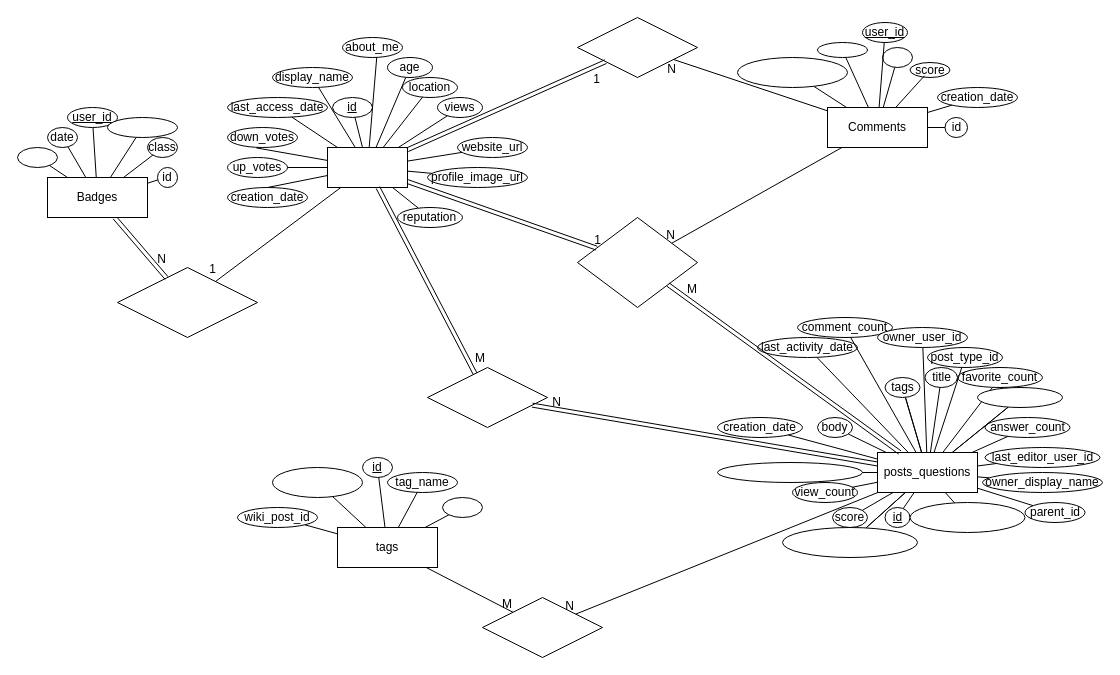
Image size: 1120x675. Some labels were removed from this diagram. Here are the shapes that lost their labels. From the top down, the centre of each, then its label:
point (637, 47): Hall of Fame
point (842, 50): post_id
point (897, 57): text
point (792, 72): user_display_name
point (142, 127): tag_based
point (37, 157): name
point (367, 167): users
point (637, 262): Category and Participation Rate
point (187, 302): User Engagement Metrics
point (487, 397): Recommendations
point (1019, 397): last_edit_date
point (317, 482): excerpt_post_id
point (789, 472): last_editor_display_name
point (462, 507): count
point (967, 517): accepted_answer_id
point (850, 542): community_owned_date
point (542, 627): Trending Topics
